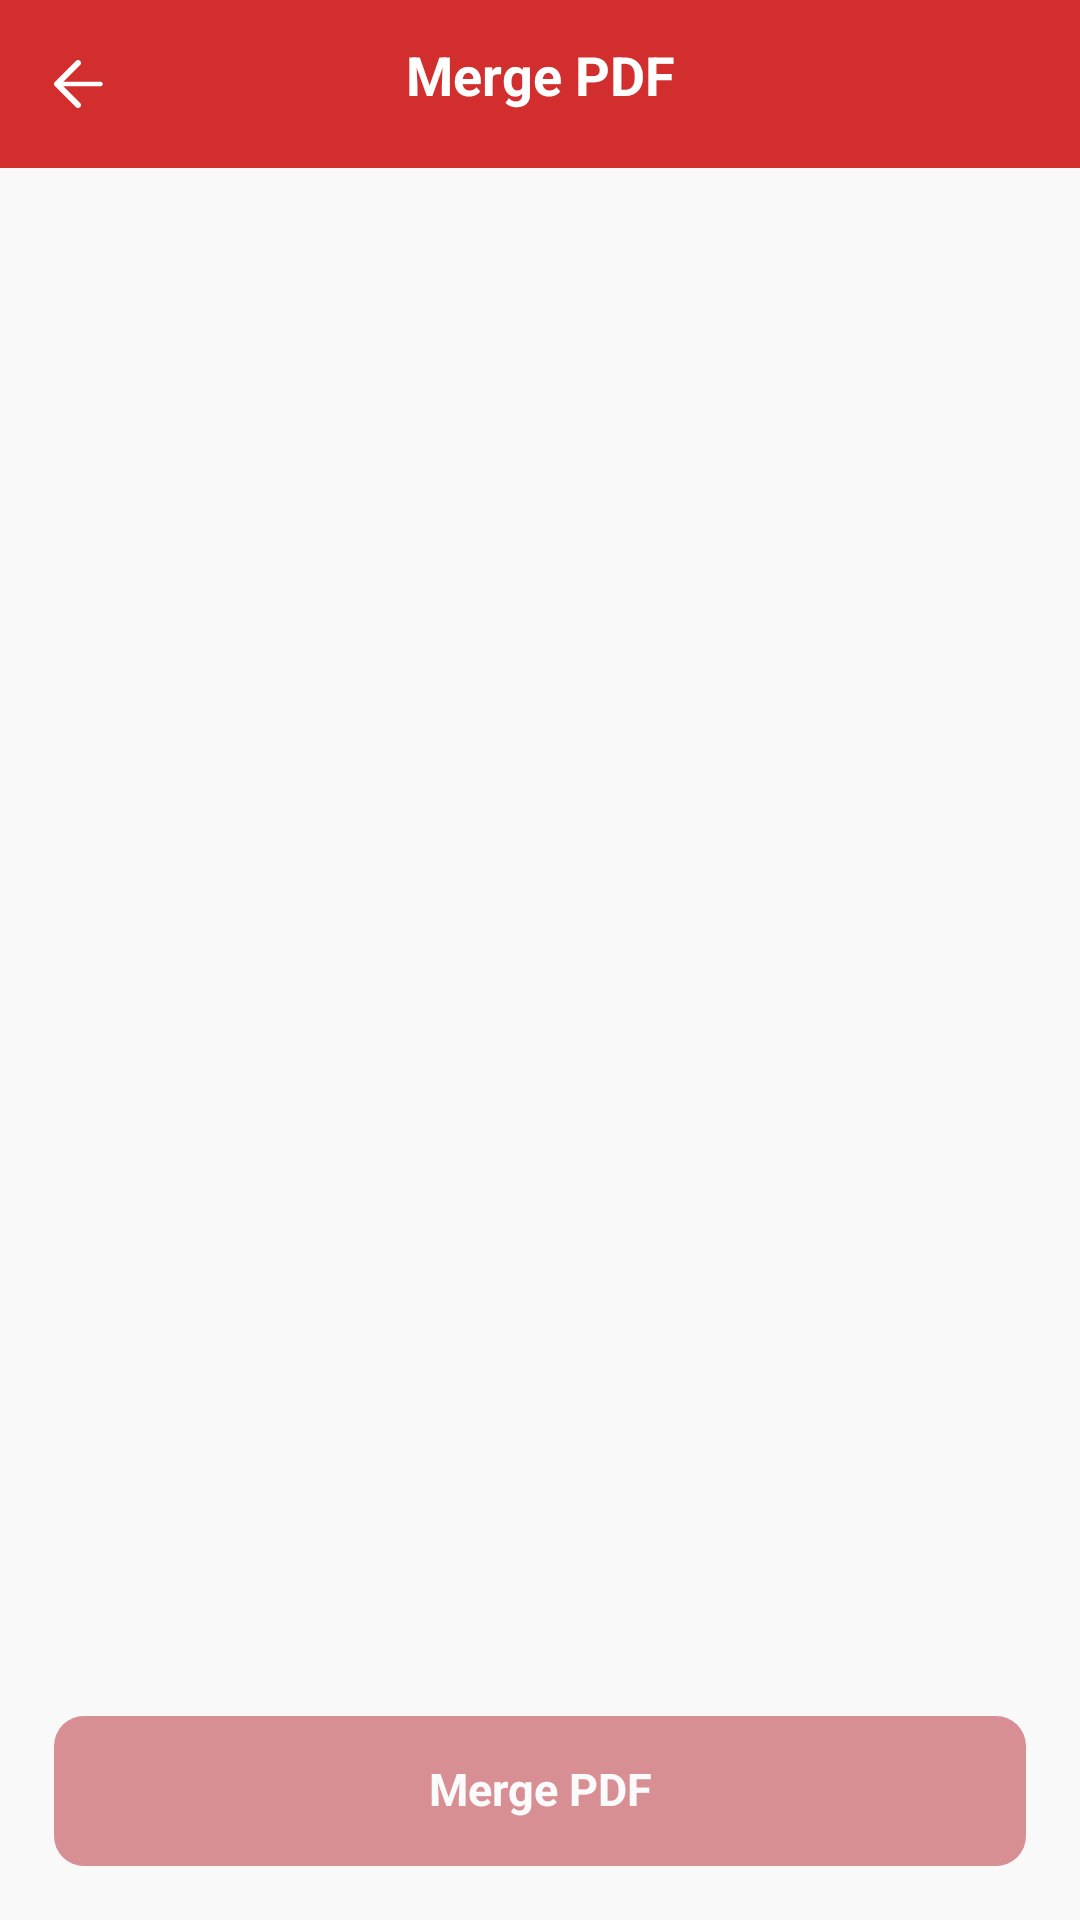

Icons on this 1080*1920 Android screen, each with its box as (x1, y1, x2, y2):
back: (54, 60, 103, 108)
